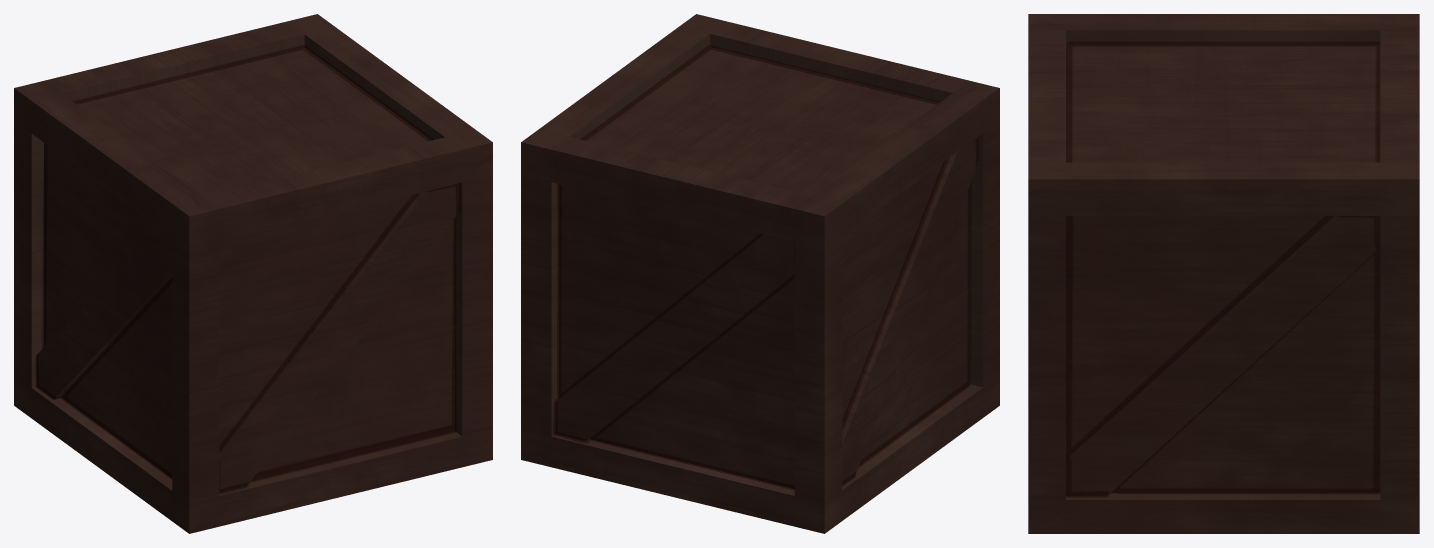
File: Kiste_dunkel.fbx
3 views of the same model, side by side, from view 1: azimuth 30°, elevation 25°; view 2: azimuth 150°, elevation 25°; view 3: azimuth 270°, elevation 25° (orthographic). The views are drawn at different scales.
Visible parts, largest first — view 1: kiste_dunkel; view 2: kiste_dunkel; view 3: kiste_dunkel.
Part boxes in pixels (x1=…): kiste_dunkel: x1=14, y1=14, x2=492, y2=533; kiste_dunkel: x1=521, y1=14, x2=999, y2=533; kiste_dunkel: x1=1028, y1=14, x2=1419, y2=533.
Bounding box in the file's own units: 350 × 350 × 350.
